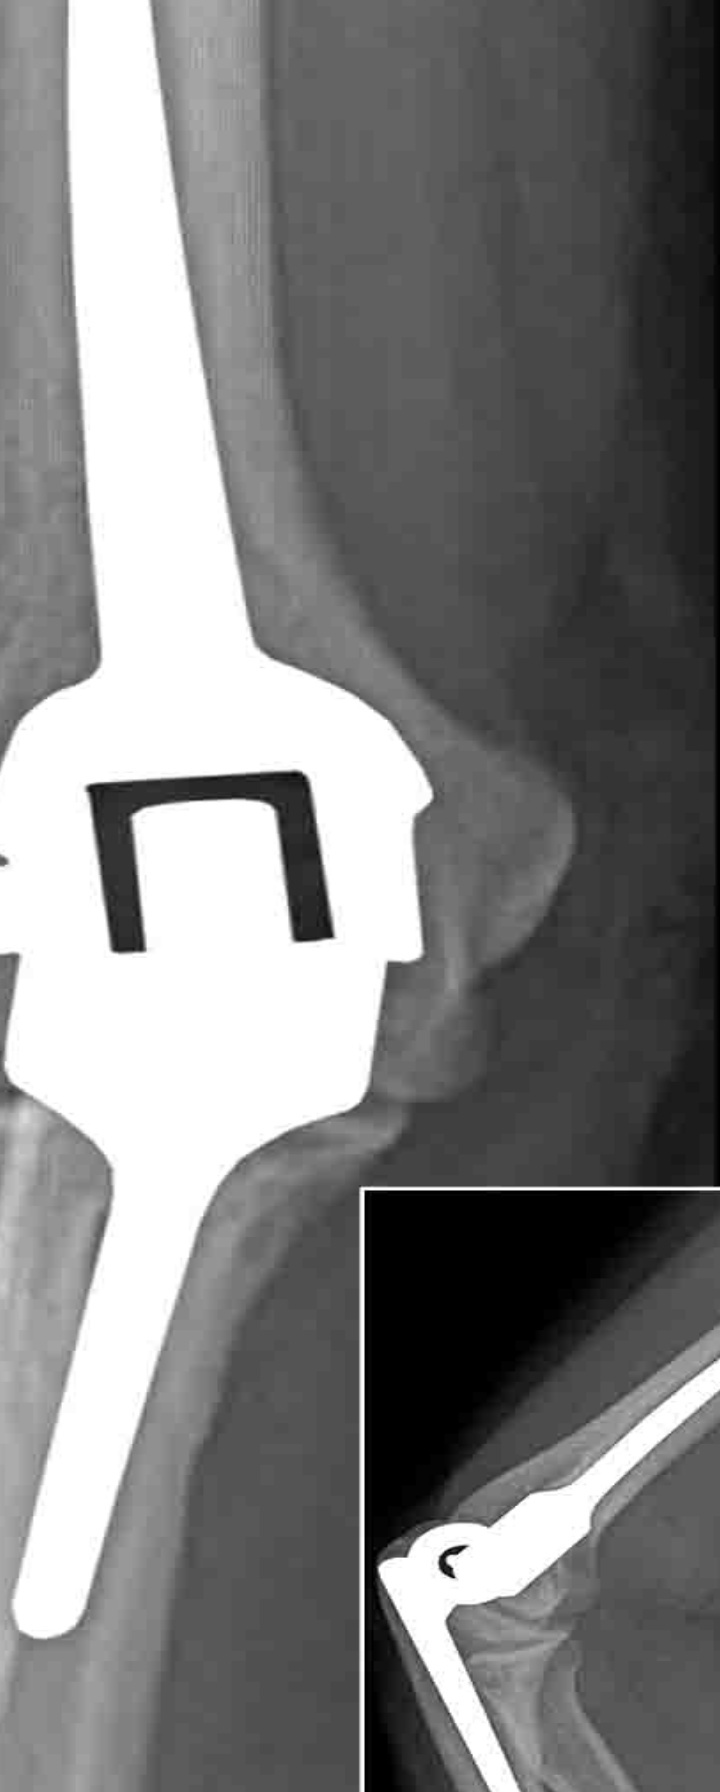Elbow - Osteonics - Stryker: (2, 1, 438, 1513), (365, 1285, 720, 1792)
